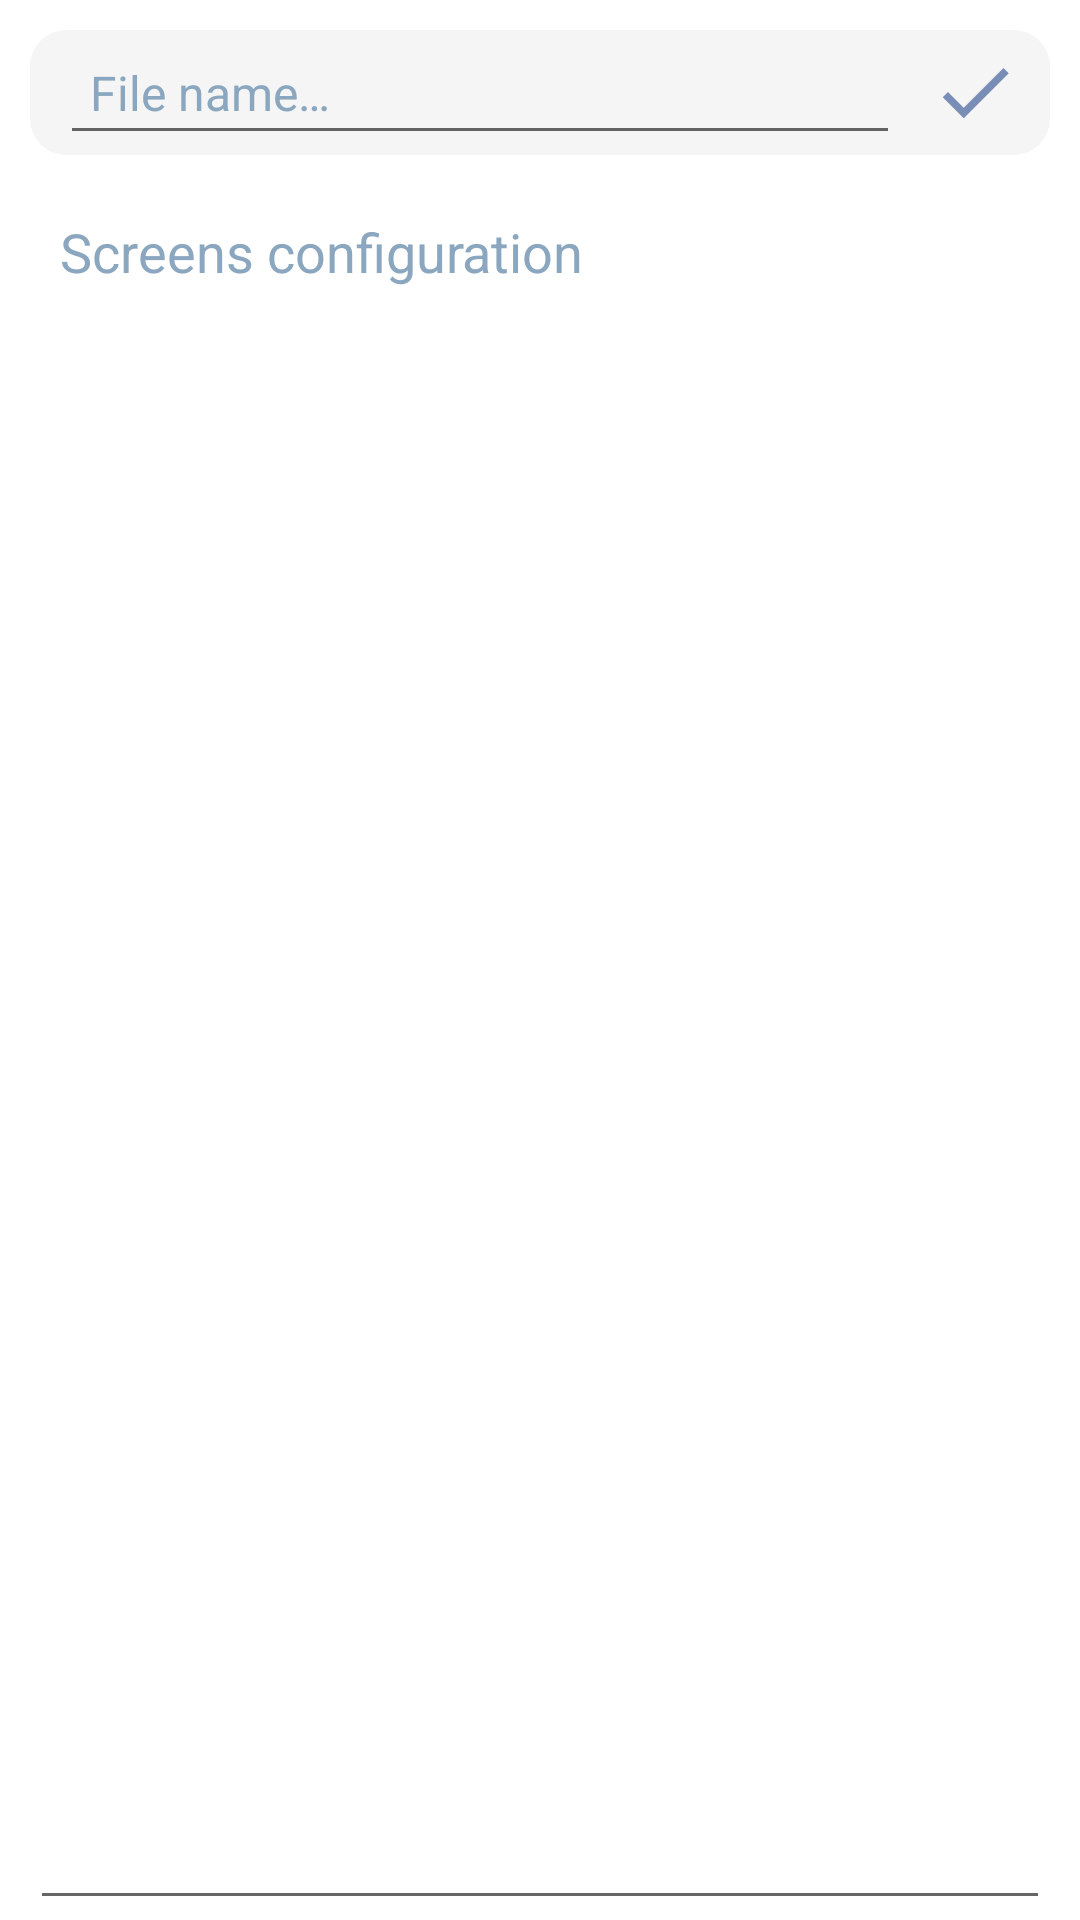

Point at icon controls on the screen. Image size 1080 × 1920, points as point (x, y).
done: point (976, 93)
